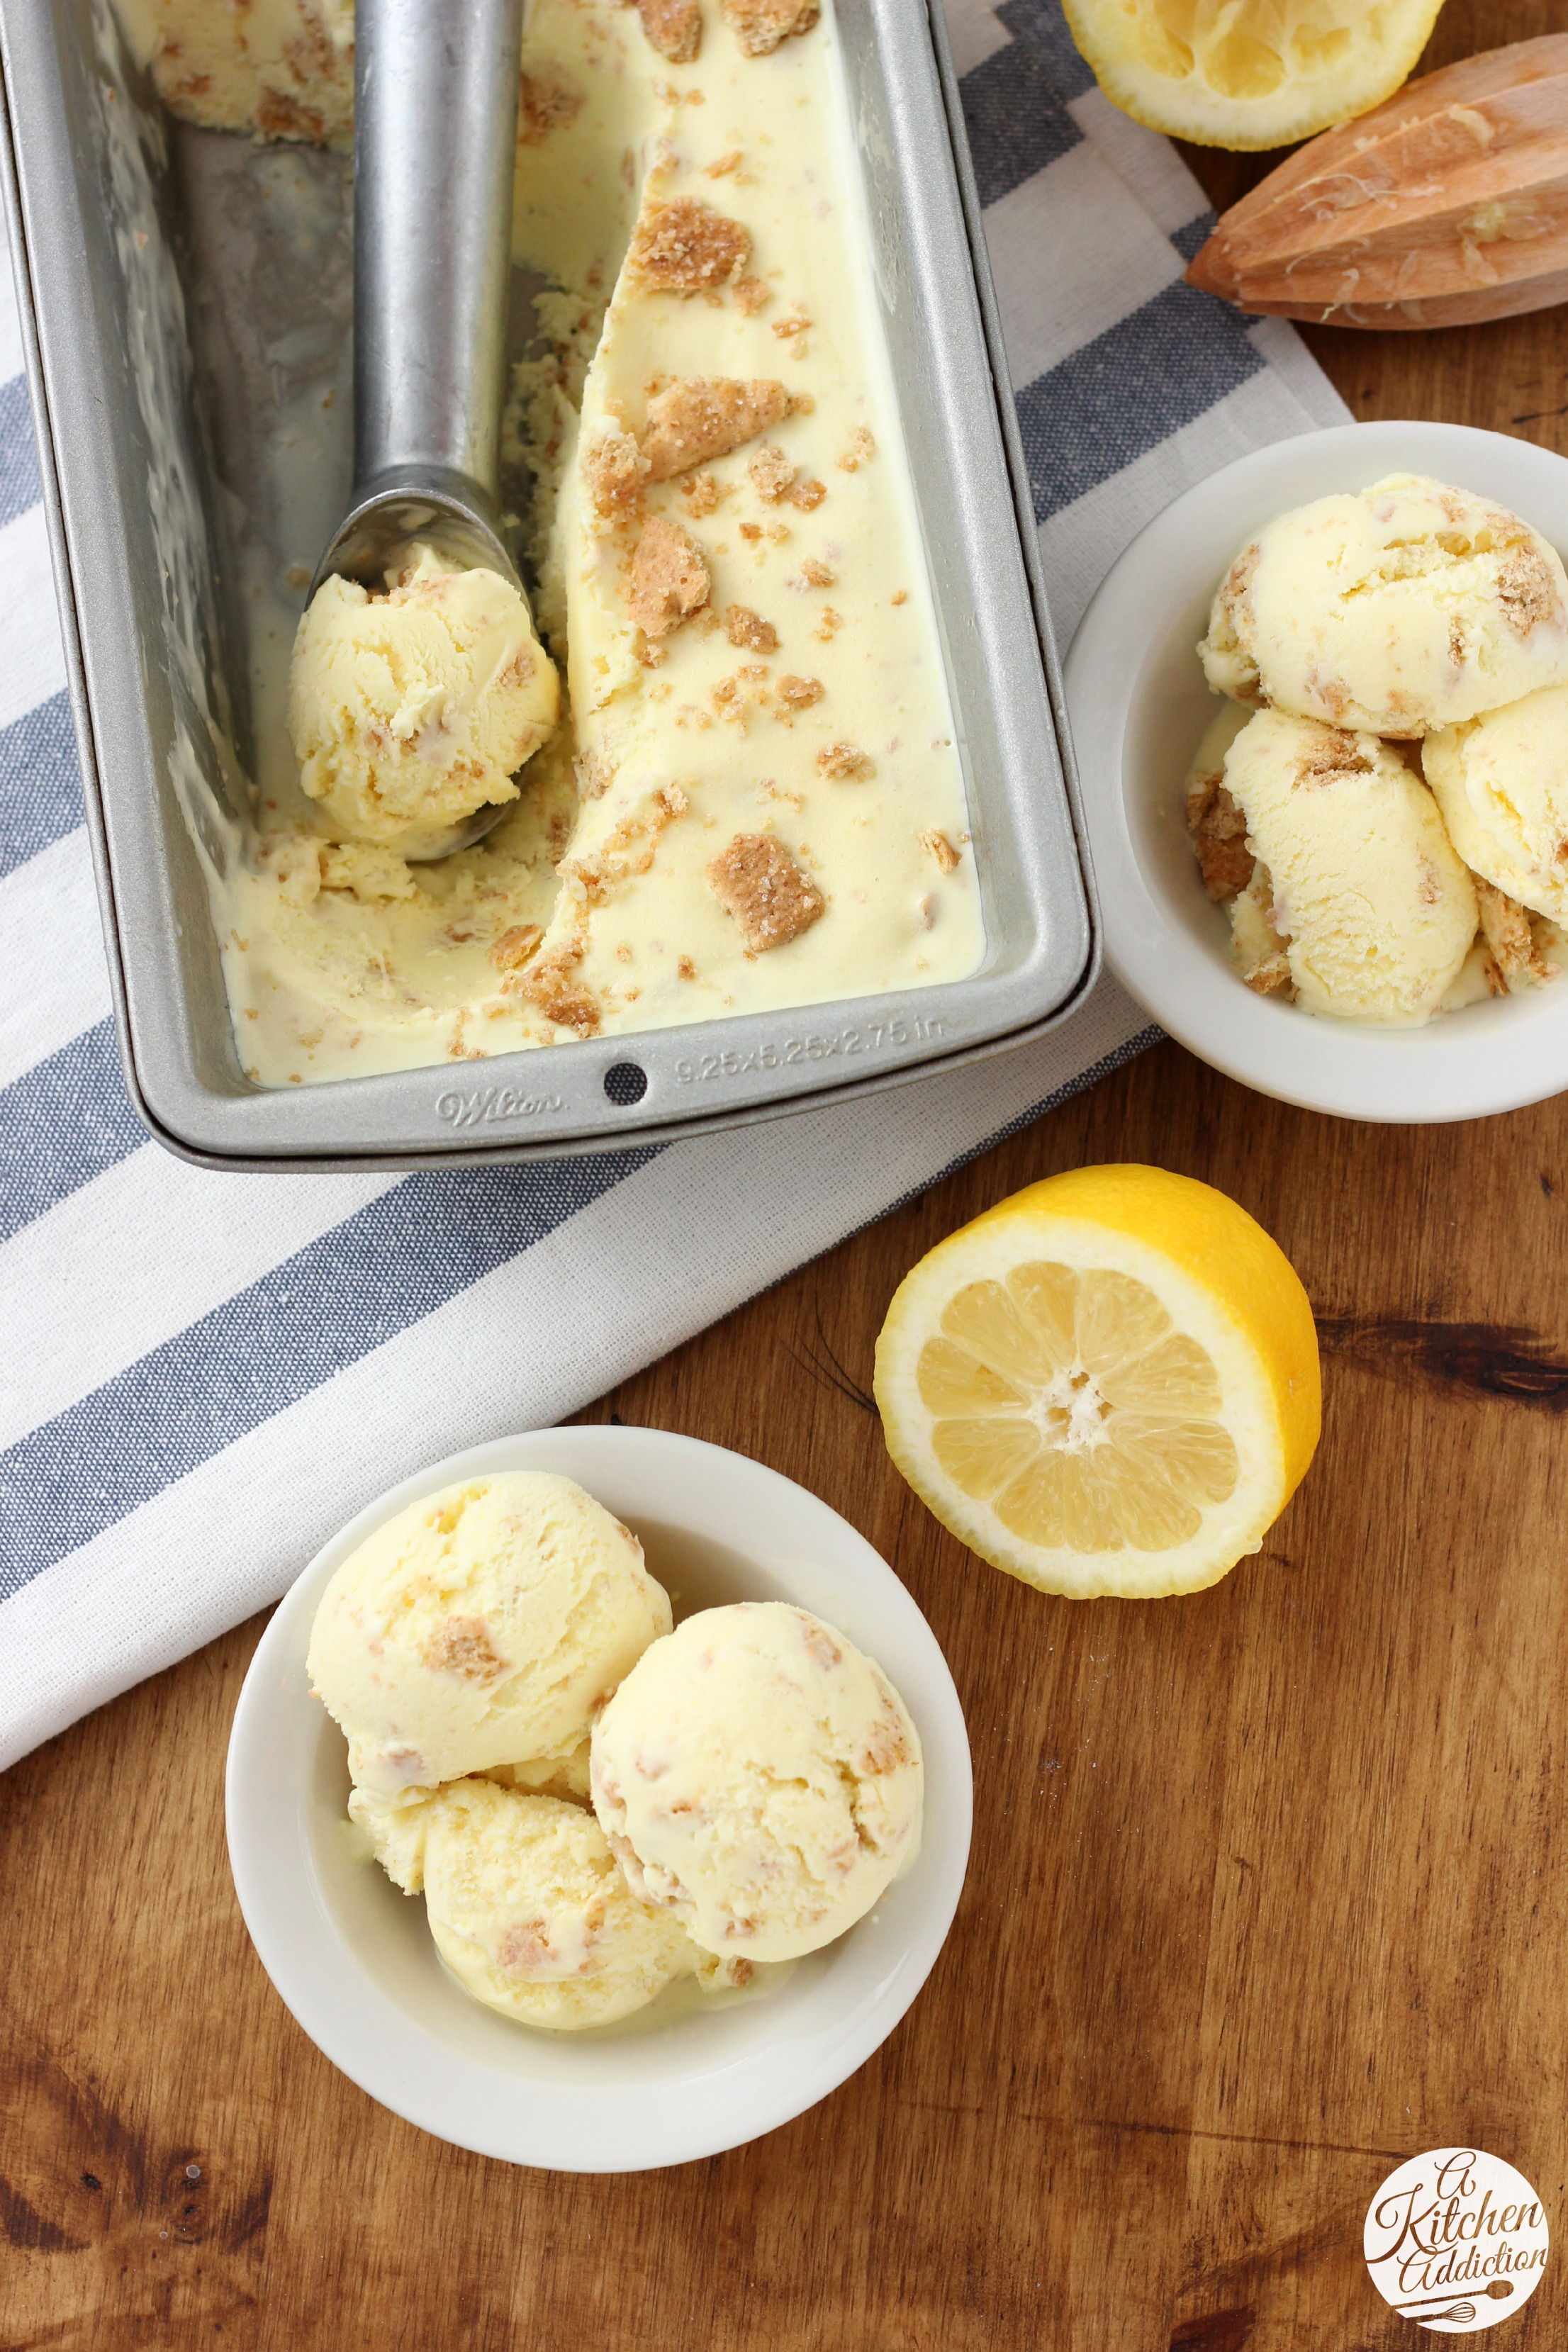ice-cream: (590, 1596, 926, 1951), (299, 1473, 672, 1788), (1199, 476, 1568, 733), (353, 1783, 705, 2028), (1202, 714, 1475, 1025), (290, 570, 555, 836), (1423, 681, 1568, 934)
